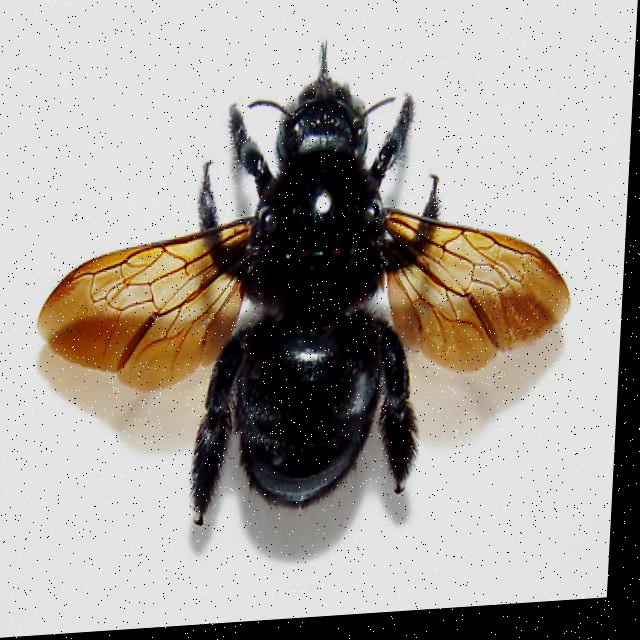Xylocopa: (28, 31, 585, 550)
